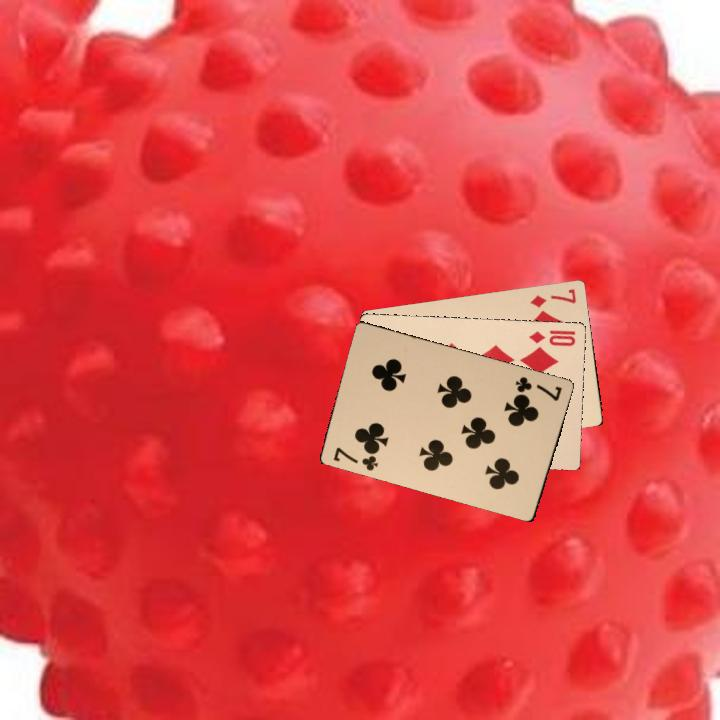10d: (525, 326, 578, 349)
7c: (511, 373, 564, 404), (329, 443, 381, 473)
7d: (526, 285, 578, 310)
